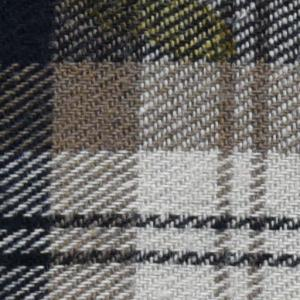Oil Stain: (61, 1, 241, 67)
